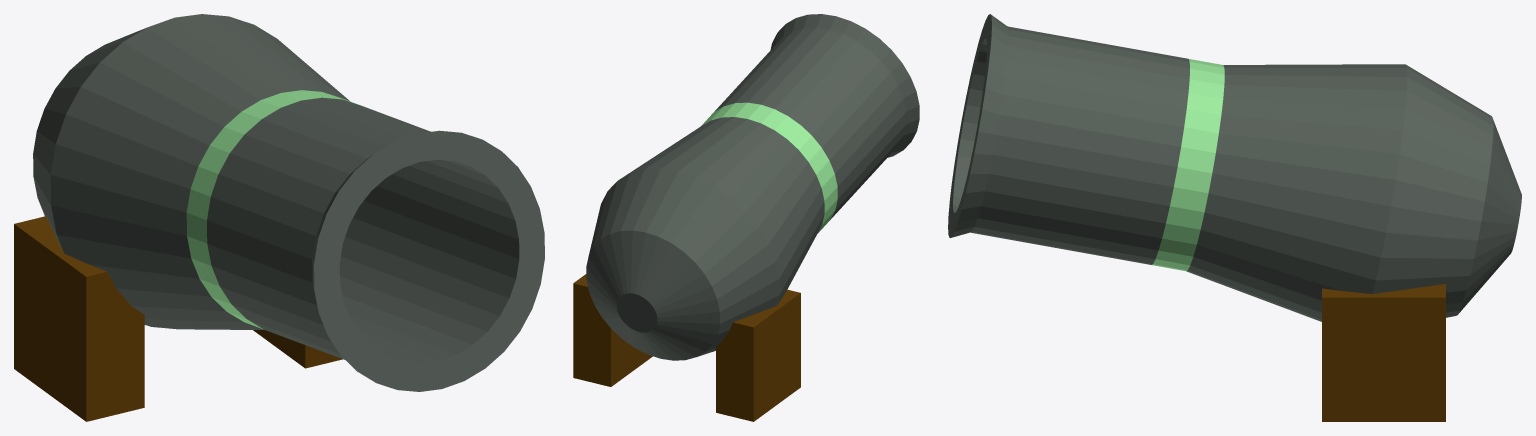
File: Cannon.fbx
3 renders of one model, left to right at view 1: azimuth 30°, elevation 25°; view 2: azimuth 150°, elevation 25°; view 3: azimuth 270°, elevation 25°, orthographic. The views are drawn at different scales.
Parts seen in each view (by area): view 1: Cylinder; view 2: Cylinder; view 3: Cylinder.
Part boxes in pixels (x1,y1,x2,y2): Cylinder: (14,14,544,421); Cylinder: (573,14,919,421); Cylinder: (948,14,1521,421).
Size of the model in its own units: 2 by 4.17 by 2.72.
